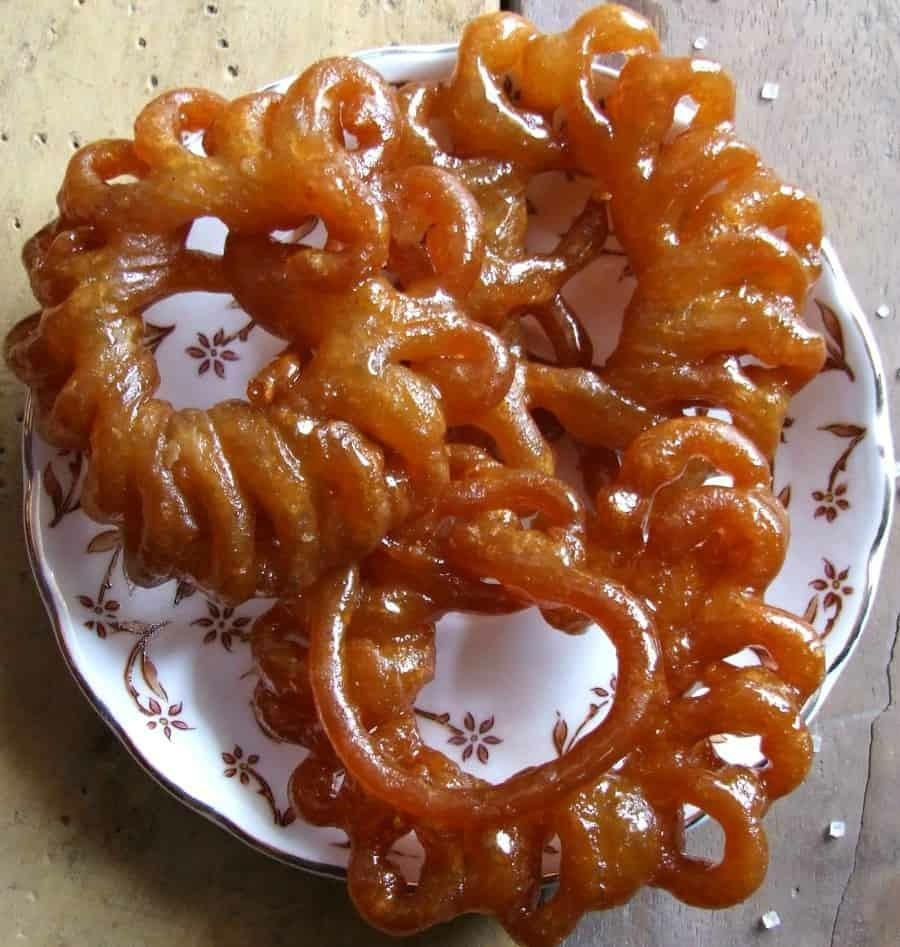Jalebi: (15, 4, 829, 945)
